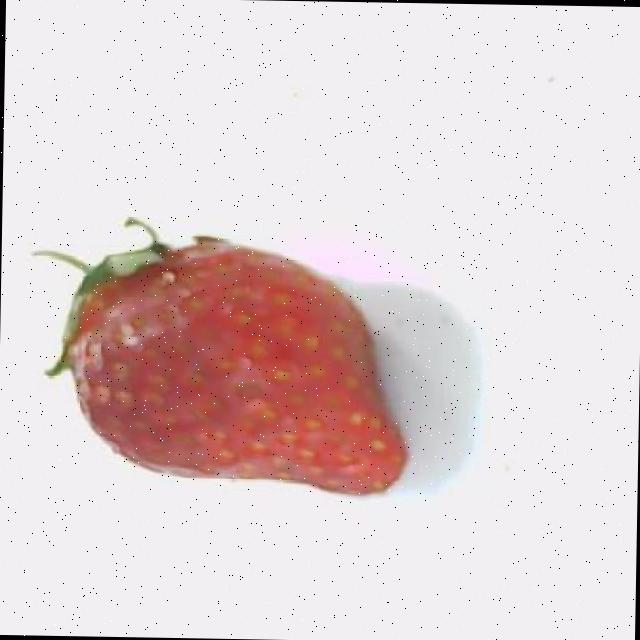strawberry: (36, 218, 405, 493)
